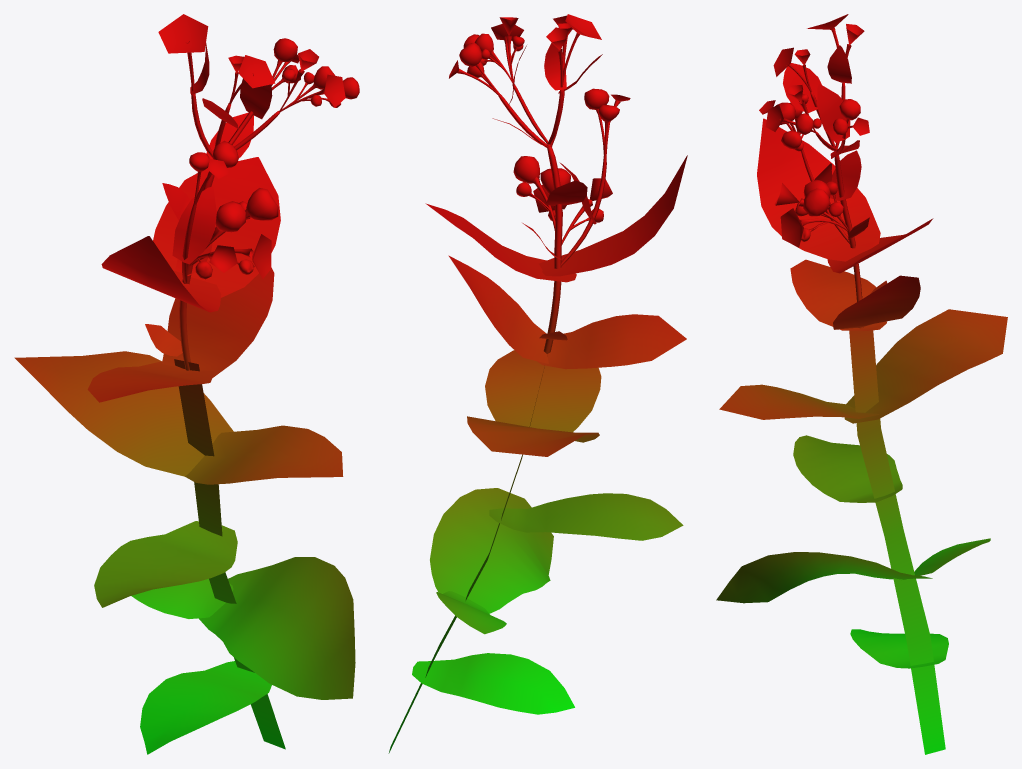
Rendered from Rubber Bush_LOD2_Var5_xffhfekia.fbx.
The picture shows the model from 3 angles, left to right: view 1: azimuth 30°, elevation 25°; view 2: azimuth 150°, elevation 25°; view 3: azimuth 270°, elevation 25°; orthographic projection. The views are drawn at different scales.
Visible parts, largest first — view 1: _3qma_Var5_LOD2; view 2: _3qma_Var5_LOD2; view 3: _3qma_Var5_LOD2.
Part boxes in pixels (x1,y1,x2,y2): _3qma_Var5_LOD2: (14,14,359,754); _3qma_Var5_LOD2: (388,14,687,753); _3qma_Var5_LOD2: (716,14,1007,754).
Bounding box in the file's own units: 22.52 × 67.3 × 26.21.
